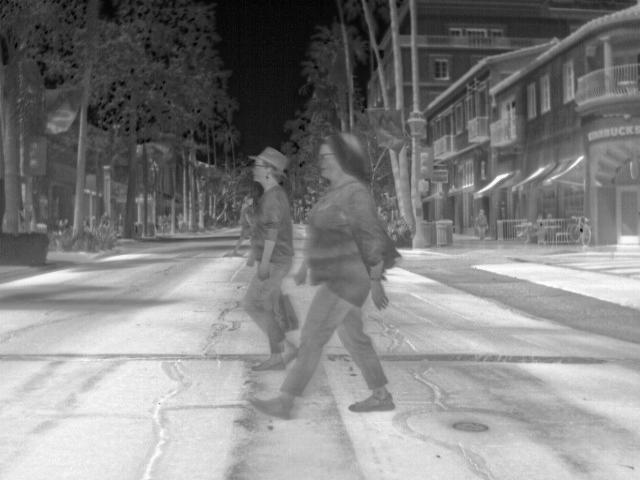person: (251, 133, 399, 422), (240, 146, 300, 370), (232, 193, 255, 256), (473, 207, 489, 240), (94, 210, 113, 232), (113, 213, 126, 233)
